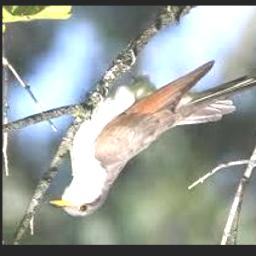Cuckoo: (47, 64, 256, 217)
